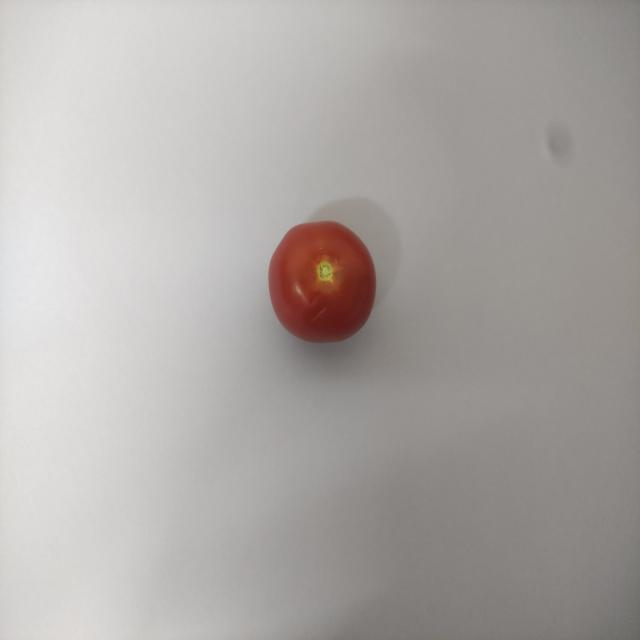kirmizi: (252, 203, 387, 356)
